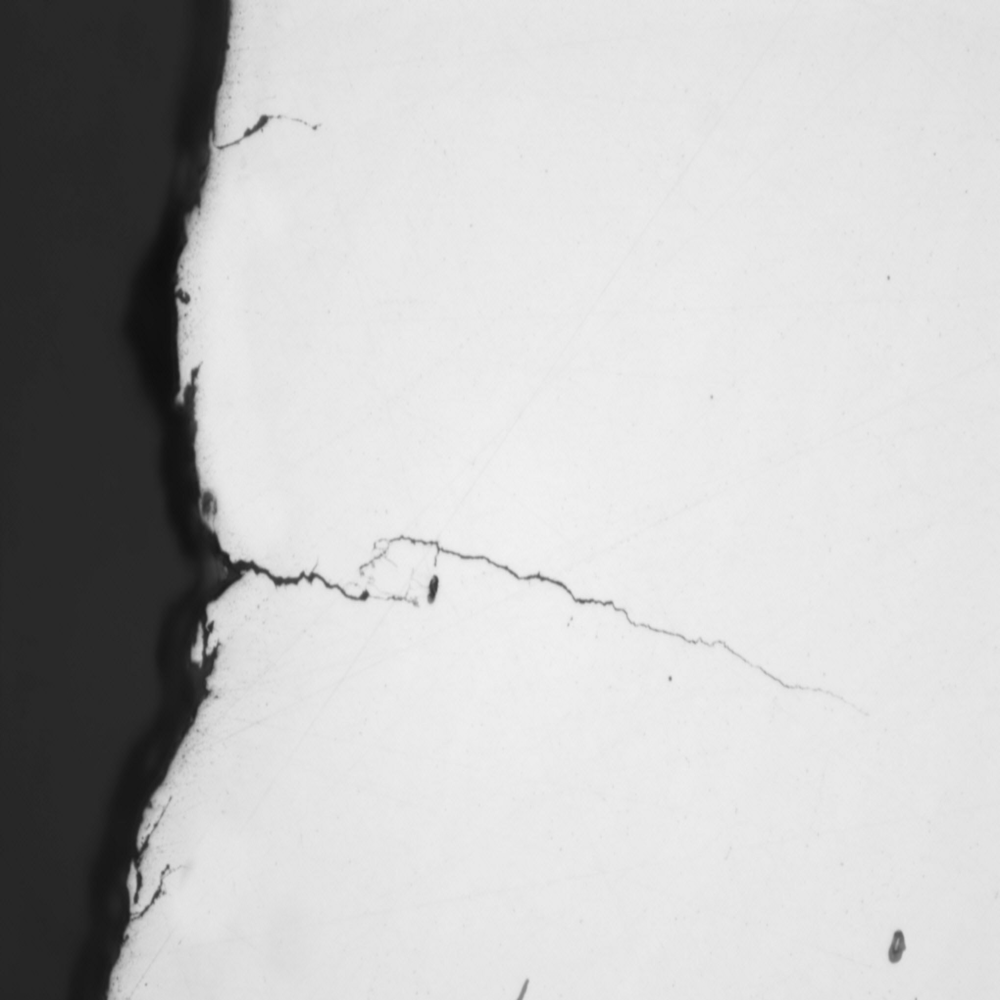crack: (173, 491, 899, 777), (189, 108, 354, 160)
